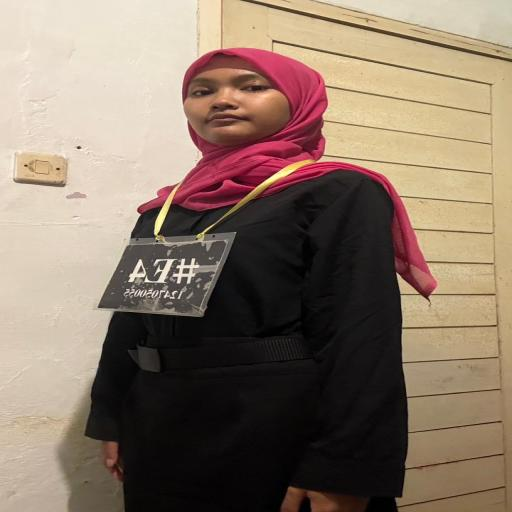kemeja_salah: (121, 200, 421, 343)
kerudung_benar: (133, 44, 362, 202)
nametag_ada: (96, 198, 241, 320)
rok_benar: (96, 361, 395, 512)
sabuk_ada: (114, 340, 338, 372)
